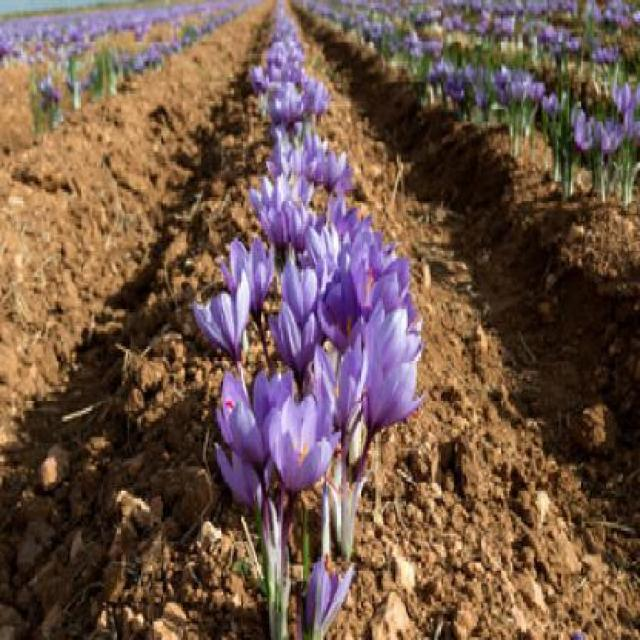saffron open: (268, 397, 336, 499), (361, 361, 424, 465), (221, 238, 274, 359), (193, 273, 249, 362), (270, 303, 315, 384)
